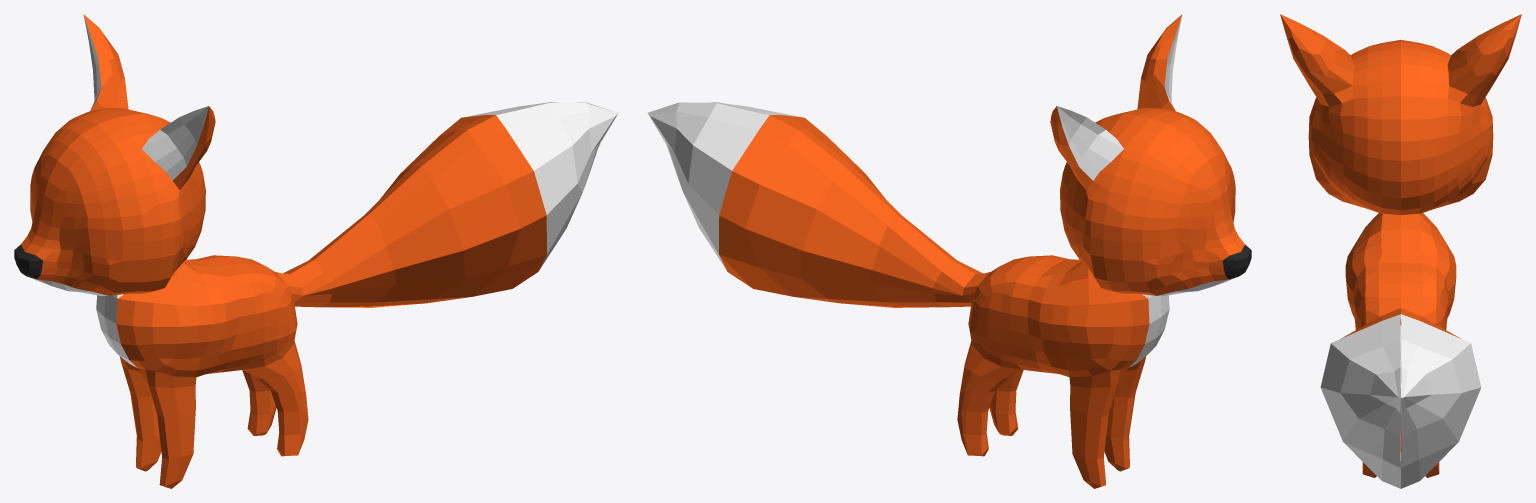
Rendered from Low_poly_fox.glb.
The picture shows the model from 3 angles, left to right: view 1: azimuth 30°, elevation 25°; view 2: azimuth 150°, elevation 25°; view 3: azimuth 270°, elevation 25°; orthographic projection. The views are drawn at different scales.
Parts seen in each view (by area): view 1: unnamed (×3); view 2: unnamed (×3); view 3: unnamed (×2).
Boxes of the visible parts, x1,y1,x2,y2 form: unnamed (×3): (14,14,618,488); unnamed (×3): (647,14,1251,488); unnamed (×2): (1280,14,1521,488).
Bounding box in the file's own units: 1.07 × 0.7223 × 0.3891.
